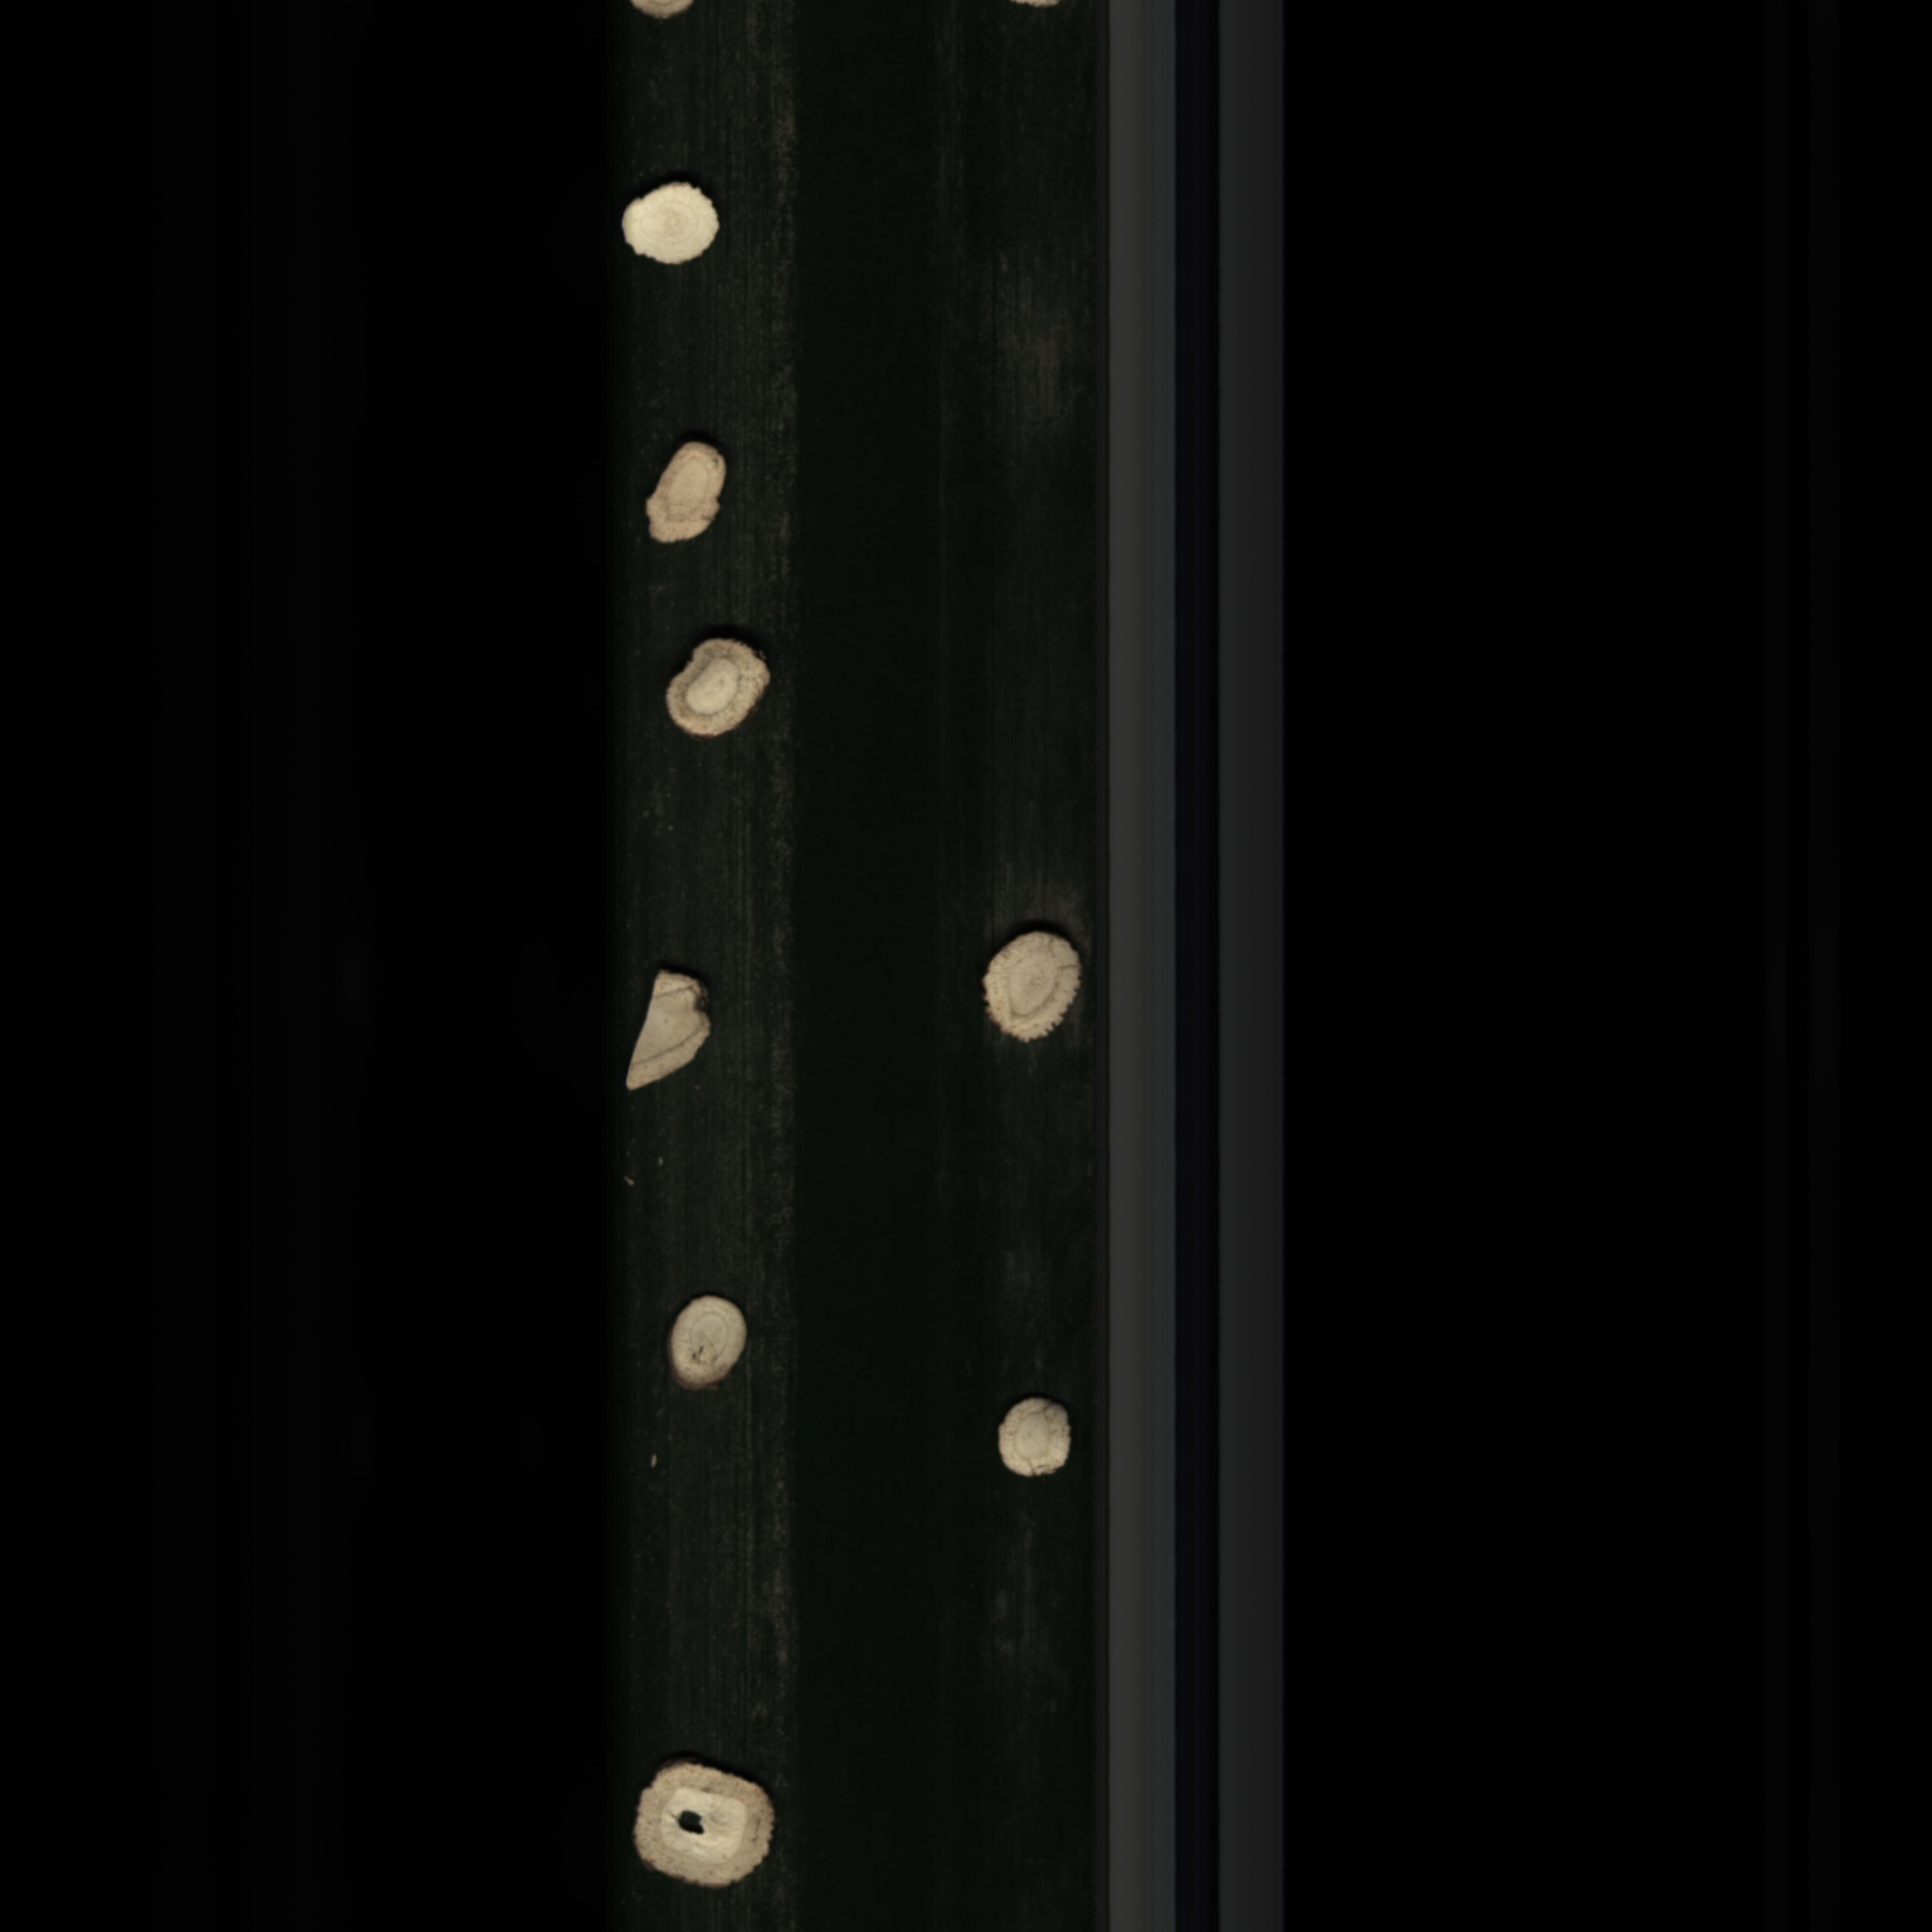debris: (609, 954, 724, 1104)
hole: (632, 1752, 784, 1898)
moldy: (655, 614, 789, 748)
